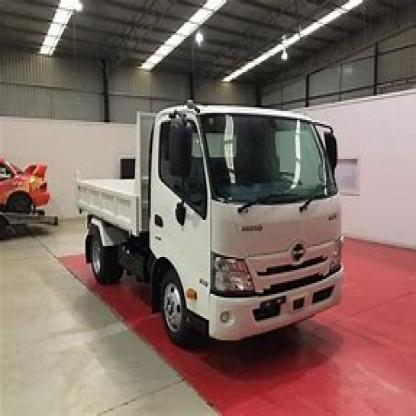dump_truck: (61, 91, 378, 355)
